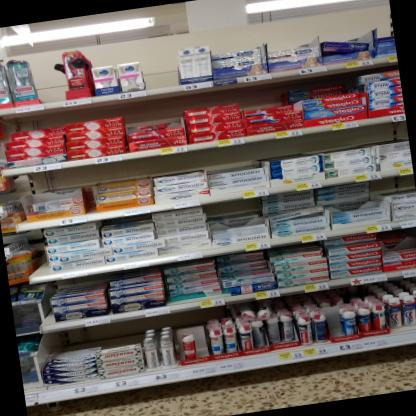empty_space: (140, 50, 179, 92), (37, 72, 69, 104)
